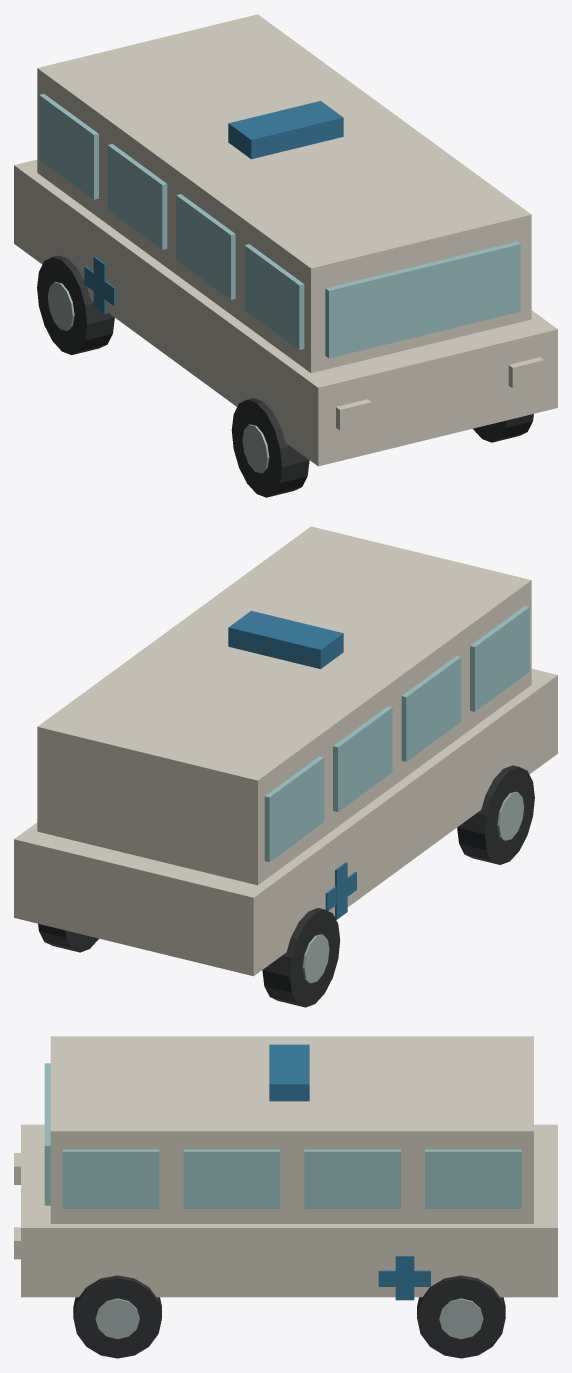
The model's file is 017_clinic_ambulance.glb.
The picture shows the model from 3 angles, top to bottom: view 1: azimuth 30°, elevation 25°; view 2: azimuth 150°, elevation 25°; view 3: azimuth 270°, elevation 25°; orthographic projection. The views are drawn at different scales.
Visible parts, largest first — view 1: Clinic ambulance; view 2: Clinic ambulance; view 3: Clinic ambulance.
Boxes of the visible parts, <box> form: Clinic ambulance: <box>14,14,557,497</box>; Clinic ambulance: <box>14,526,557,1007</box>; Clinic ambulance: <box>14,1036,557,1358</box>.
Bounding box in the file's own units: 1.95 × 1.97 × 4.05.
